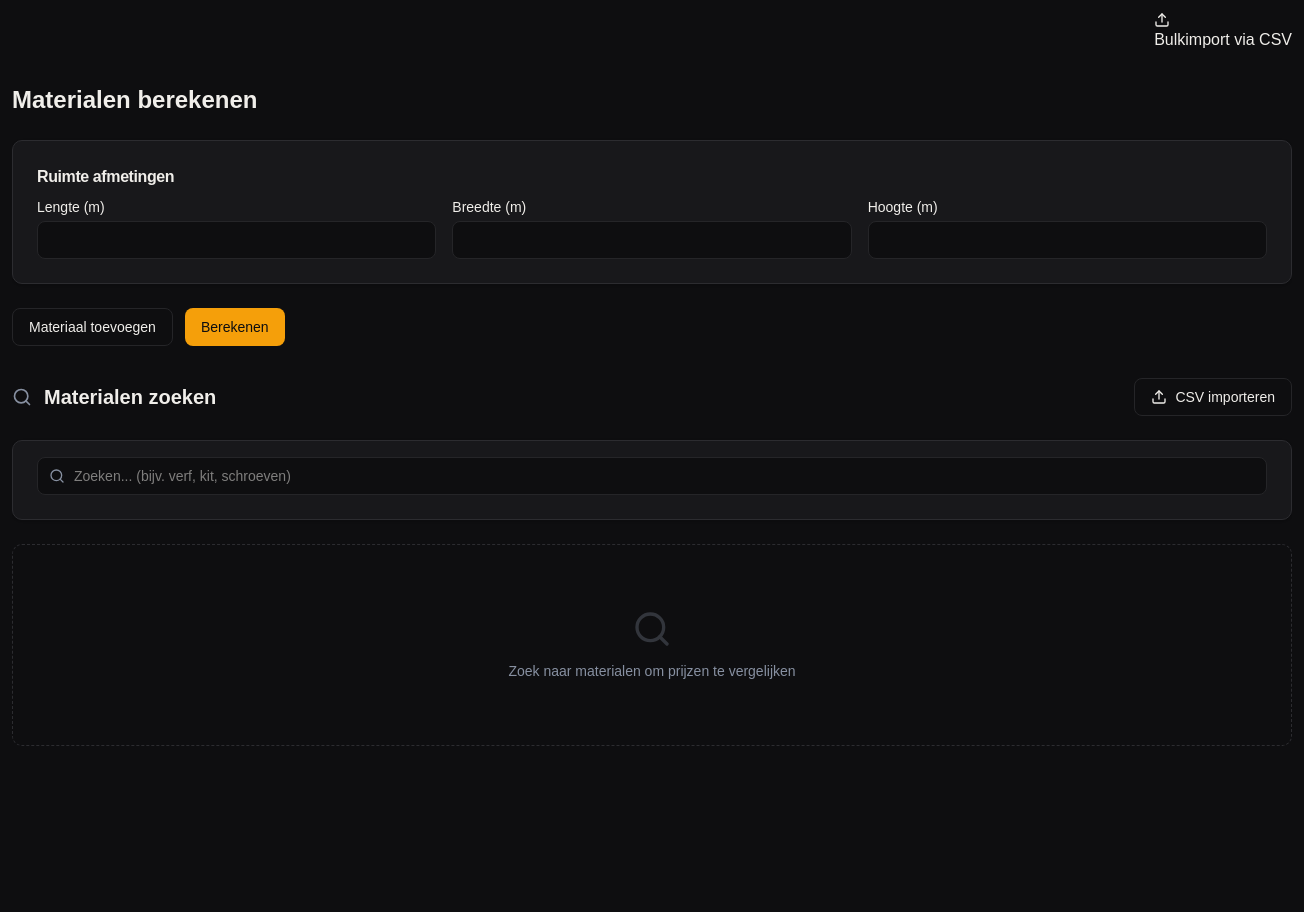
Scenario: MaterialsCalculatorPage › can remove a material from the list
Click the button "Materiaal toevoegen" at (92, 327), box [12,308,173,346]
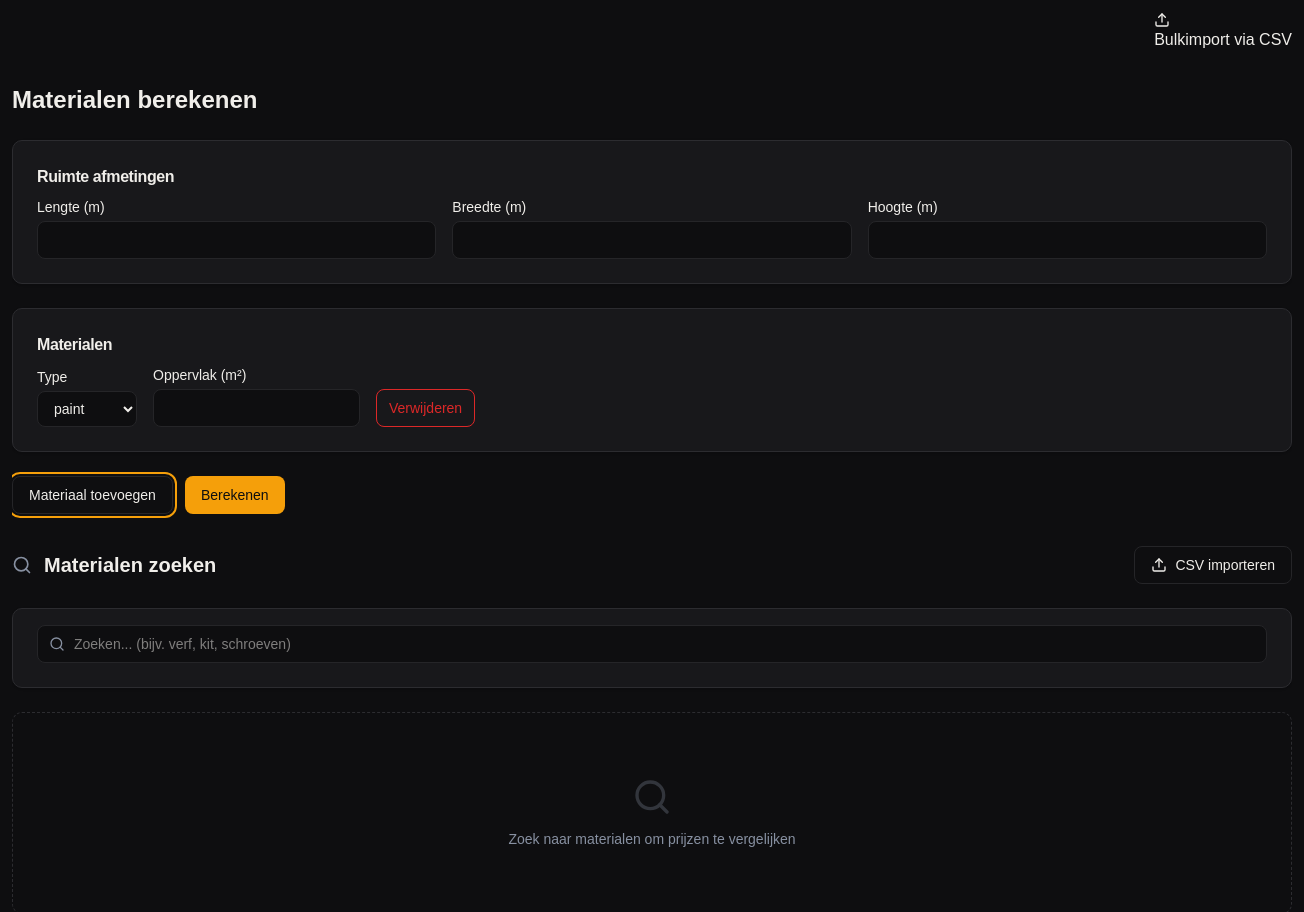
Now the dropdown labelled "Type" is shown, box [37,391,137,427]
Click the button "Verwijderen" at (426, 408), box [376,389,475,427]
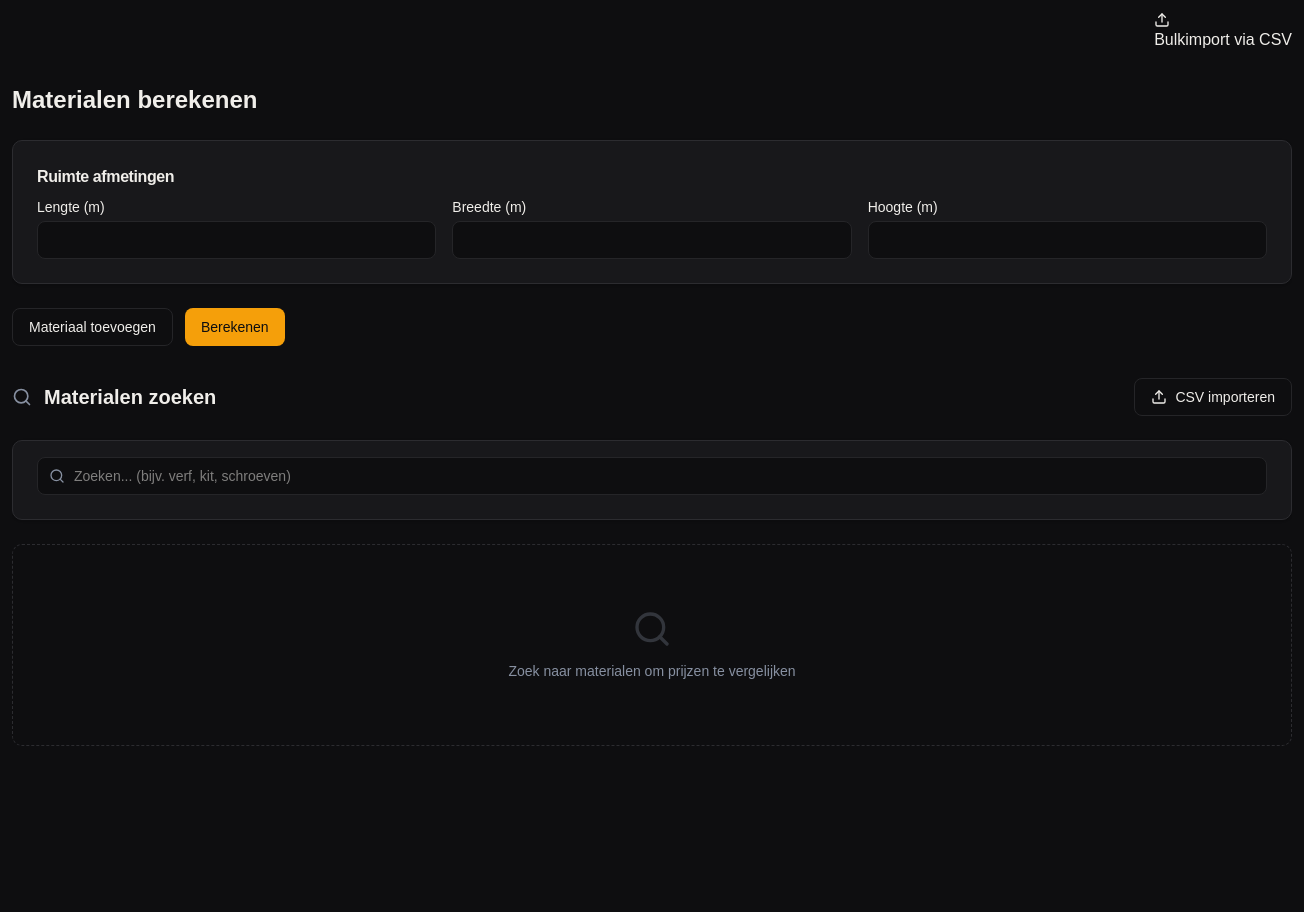
Now the label labelled "Type" is gone
